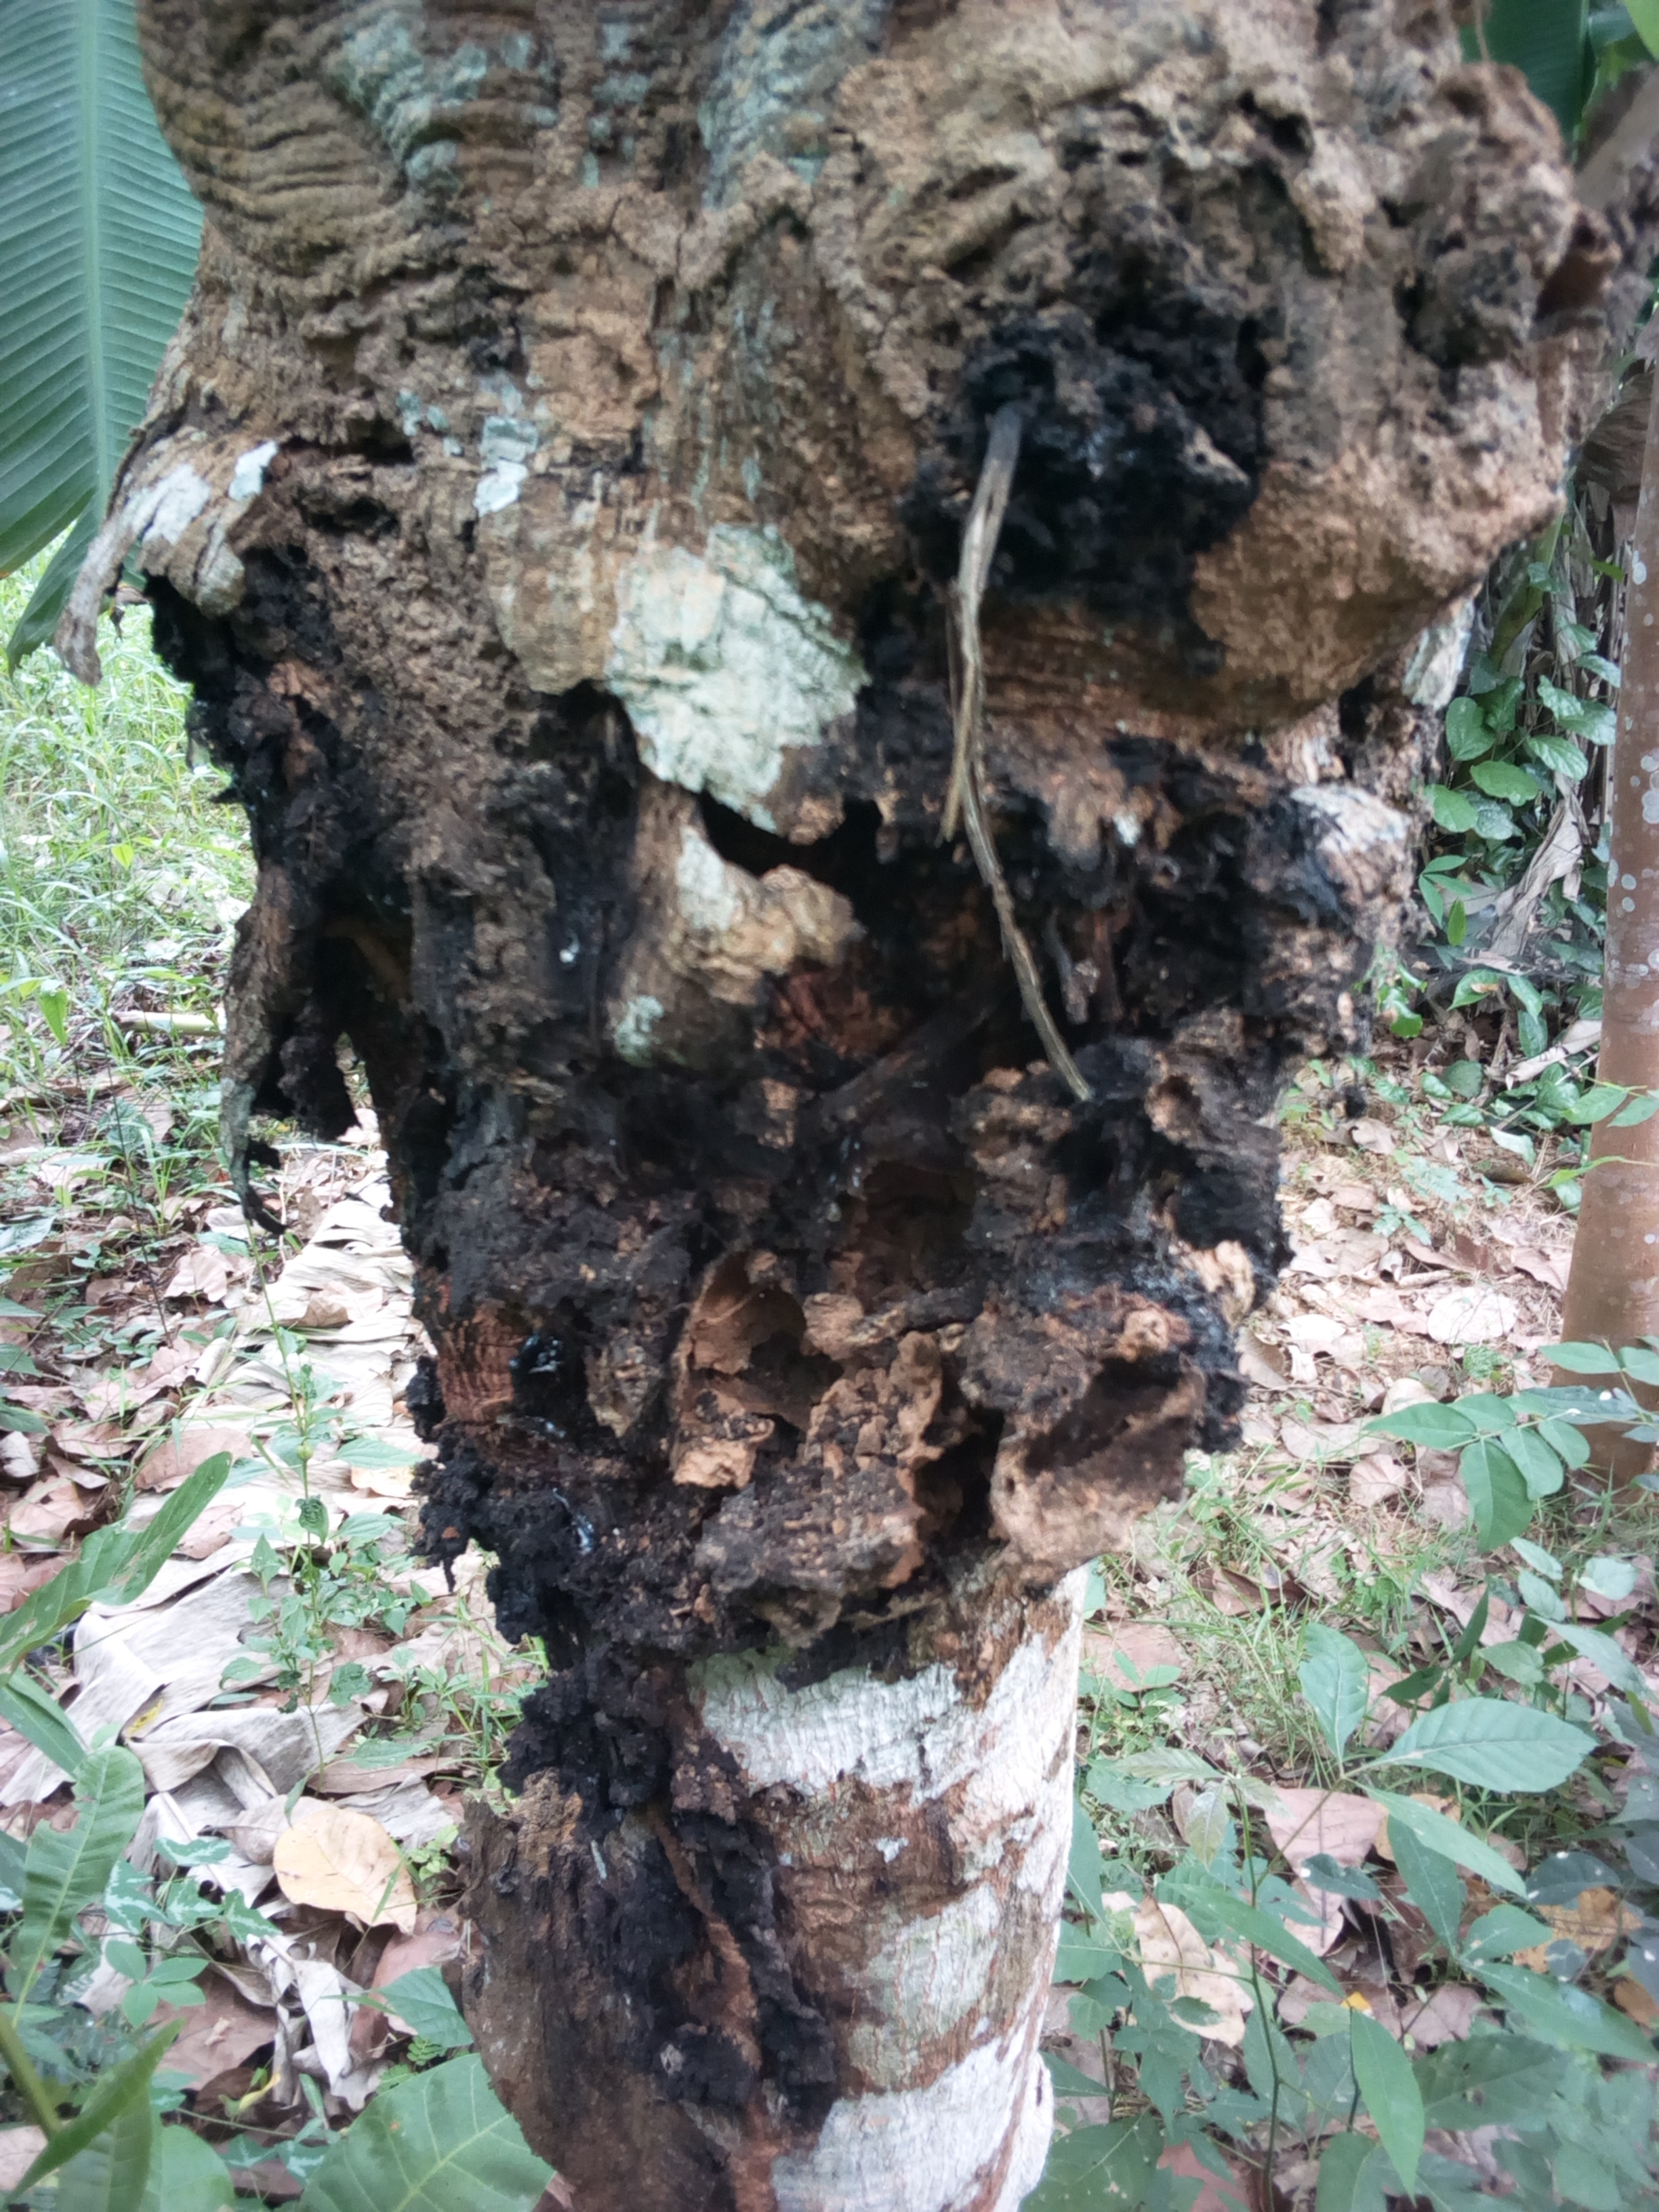Termites: (833, 24, 1530, 702), (162, 31, 782, 475)
